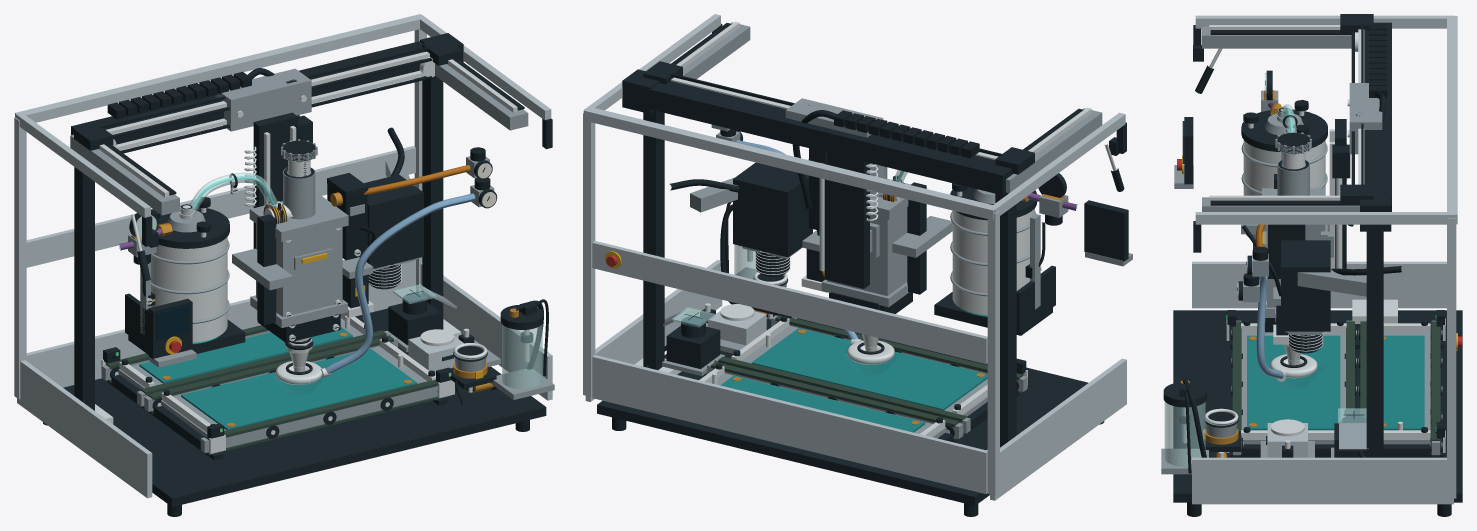
The model's file is generic-fluid-dispenser.glb.
3 views of the same model, side by side, from view 1: azimuth 30°, elevation 25°; view 2: azimuth 150°, elevation 25°; view 3: azimuth 270°, elevation 25° (orthographic).
Visible parts, largest first — view 1: base-plate, lower-side-panel (×2), gantry-column (×2), sample-surface, hood-rear-frame, rear-panel, pressure-vessel, conveyor-belt-upper (×3), enclosure-rear-post (×2), lower-rear-panel, valve-housing, x-axis-crossbeam (+38 smaller); view 2: lower-rear-panel, rear-panel, x-axis-crossbeam, lower-side-panel (×2), base-plate, gantry-column (×2), sample-surface, enclosure-rear-post (×2), hood-rear-frame, camera-body, z-slide-backplate, conveyor-belt-upper (×3) (+24 smaller); view 3: lower-side-panel (×2), base-plate, sample-surface, hood-side-frame (×2), camera-body, gantry-column, sample-surface-rear, conveyor-belt-upper (×4), y-guide-beam (×2), enclosure-rear-post, x-axis-crossbeam, hood-rear-frame (+44 smaller).
Boxes of the visible parts, left/top/right/bottom form: base-plate: left=63, top=308, right=546, bottom=506; lower-side-panel (×2): left=17, top=263, right=552, bottom=498; gantry-column (×2): left=74, top=76, right=443, bottom=410; sample-surface: left=181, top=348, right=417, bottom=429; hood-rear-frame: left=15, top=14, right=424, bottom=122; rear-panel: left=26, top=146, right=415, bottom=267; pressure-vessel: left=151, top=237, right=227, bottom=342; conveyor-belt-upper (×3): left=141, top=330, right=437, bottom=439; enclosure-rear-post (×2): left=14, top=29, right=426, bottom=399; lower-rear-panel: left=26, top=260, right=415, bottom=387; valve-housing: left=256, top=224, right=342, bottom=316; x-axis-crossbeam: left=71, top=41, right=424, bottom=144; lower-rear-panel: left=592, top=355, right=987, bottom=493; rear-panel: left=592, top=241, right=987, bottom=363; x-axis-crossbeam: left=640, top=81, right=1013, bottom=195; lower-side-panel (×2): left=585, top=260, right=1126, bottom=500; base-plate: left=597, top=315, right=1088, bottom=505; gantry-column (×2): left=643, top=110, right=1016, bottom=447; sample-surface: left=751, top=328, right=987, bottom=410; enclosure-rear-post (×2): left=583, top=113, right=999, bottom=495; hood-rear-frame: left=583, top=108, right=998, bottom=220; camera-body: left=733, top=162, right=812, bottom=257; z-slide-backplate: left=824, top=152, right=869, bottom=288; conveyor-belt-upper (×3): left=711, top=315, right=1023, bottom=427; lower-side-panel (×2): left=1192, top=261, right=1453, bottom=504; base-plate: left=1173, top=310, right=1462, bottom=502; sample-surface: left=1247, top=335, right=1340, bottom=430; hood-side-frame (×2): left=1195, top=15, right=1454, bottom=224; camera-body: left=1281, top=240, right=1330, bottom=331; gantry-column: left=1366, top=231, right=1383, bottom=457; sample-surface-rear: left=1383, top=335, right=1424, bottom=430; conveyor-belt-upper (×4): left=1232, top=321, right=1440, bottom=441; y-guide-beam (×2): left=1202, top=26, right=1359, bottom=211; enclosure-rear-post: left=1447, top=218, right=1456, bottom=498; x-axis-crossbeam: left=1364, top=22, right=1391, bottom=211; hood-rear-frame: left=1447, top=16, right=1457, bottom=224.
Size of the model in its own units: 7.85 by 6.13 by 5.
